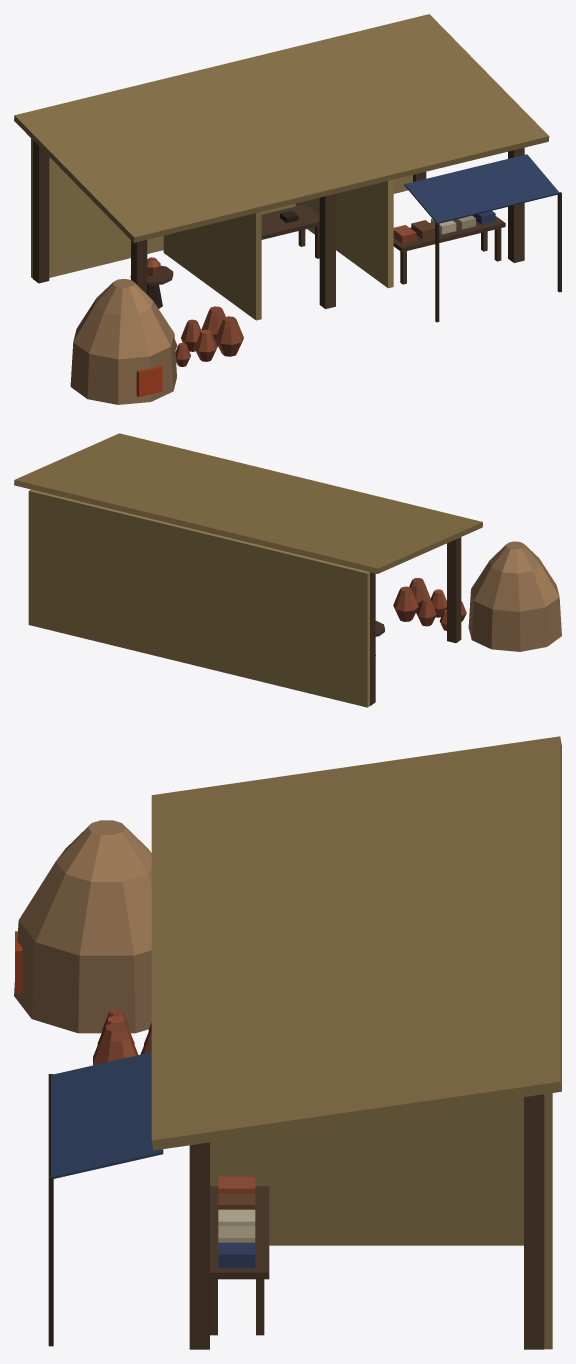
File: walk_tidebound_artisan.glb
The picture shows the model from 3 angles, top to bottom: view 1: azimuth 30°, elevation 25°; view 2: azimuth 150°, elevation 25°; view 3: azimuth 270°, elevation 25°; orthographic projection. The views are drawn at different scales.
Visible parts, largest first — view 1: walk_tidebound_artisan_roof, walk_tidebound_artisan; view 2: walk_tidebound_artisan, walk_tidebound_artisan_roof; view 3: walk_tidebound_artisan_roof, walk_tidebound_artisan.
Boxes of the visible parts, box(x1,y1,x2,y2) form: walk_tidebound_artisan_roof: box(14, 14, 549, 242); walk_tidebound_artisan: box(31, 138, 561, 404); walk_tidebound_artisan: box(28, 489, 561, 707); walk_tidebound_artisan_roof: box(14, 433, 482, 573); walk_tidebound_artisan_roof: box(151, 736, 561, 1150); walk_tidebound_artisan: box(14, 820, 552, 1349).
Size of what is drawn, in the model's own units: 10.25 by 3.32 by 5.9.
Materials: 2 (2 with a texture image).
